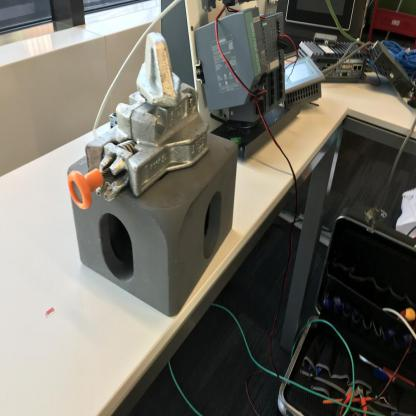CornerCasting: (66, 148, 266, 322)
Twistlock: (66, 26, 210, 218)
